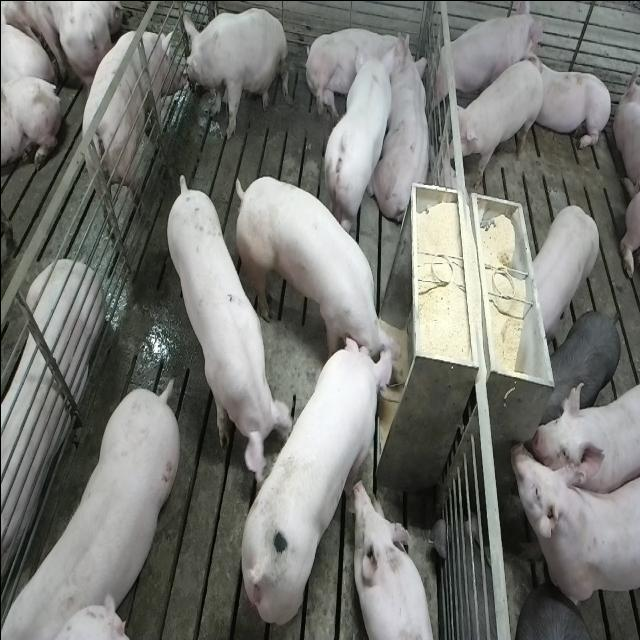Feeding: (238, 336, 397, 625), (230, 167, 399, 380)
Lateral_lying: (304, 20, 416, 121)
Sitting: (178, 6, 286, 140), (436, 5, 544, 99)
Standing: (5, 374, 184, 634), (160, 174, 286, 480), (506, 436, 638, 608), (82, 27, 185, 231), (322, 51, 392, 239), (534, 374, 640, 494), (445, 61, 544, 187), (534, 309, 620, 430), (529, 203, 599, 343), (516, 588, 602, 640)
Sternal_lying: (0, 259, 100, 598), (352, 482, 436, 640), (522, 49, 612, 153)
